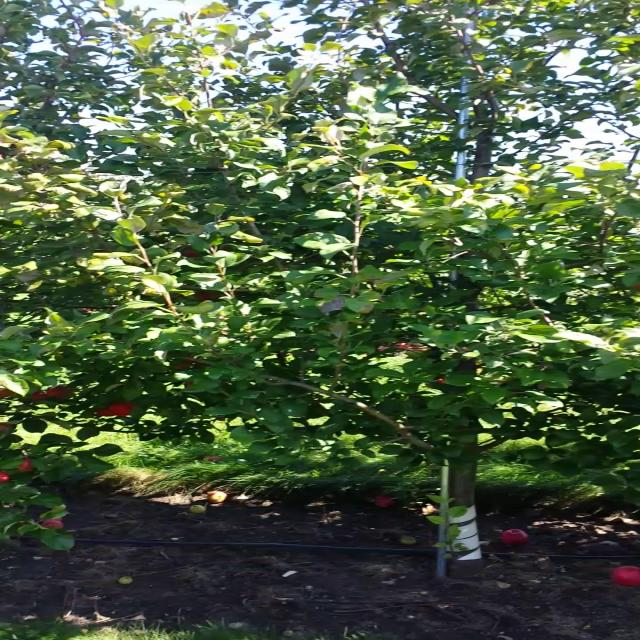apple: (106, 401, 138, 416), (44, 384, 74, 398), (179, 245, 201, 258), (192, 291, 218, 302), (31, 389, 54, 401), (18, 457, 36, 472), (169, 360, 192, 371), (92, 407, 114, 417), (0, 422, 14, 434), (0, 471, 11, 484), (0, 388, 14, 398), (184, 380, 195, 388), (436, 376, 444, 383)
